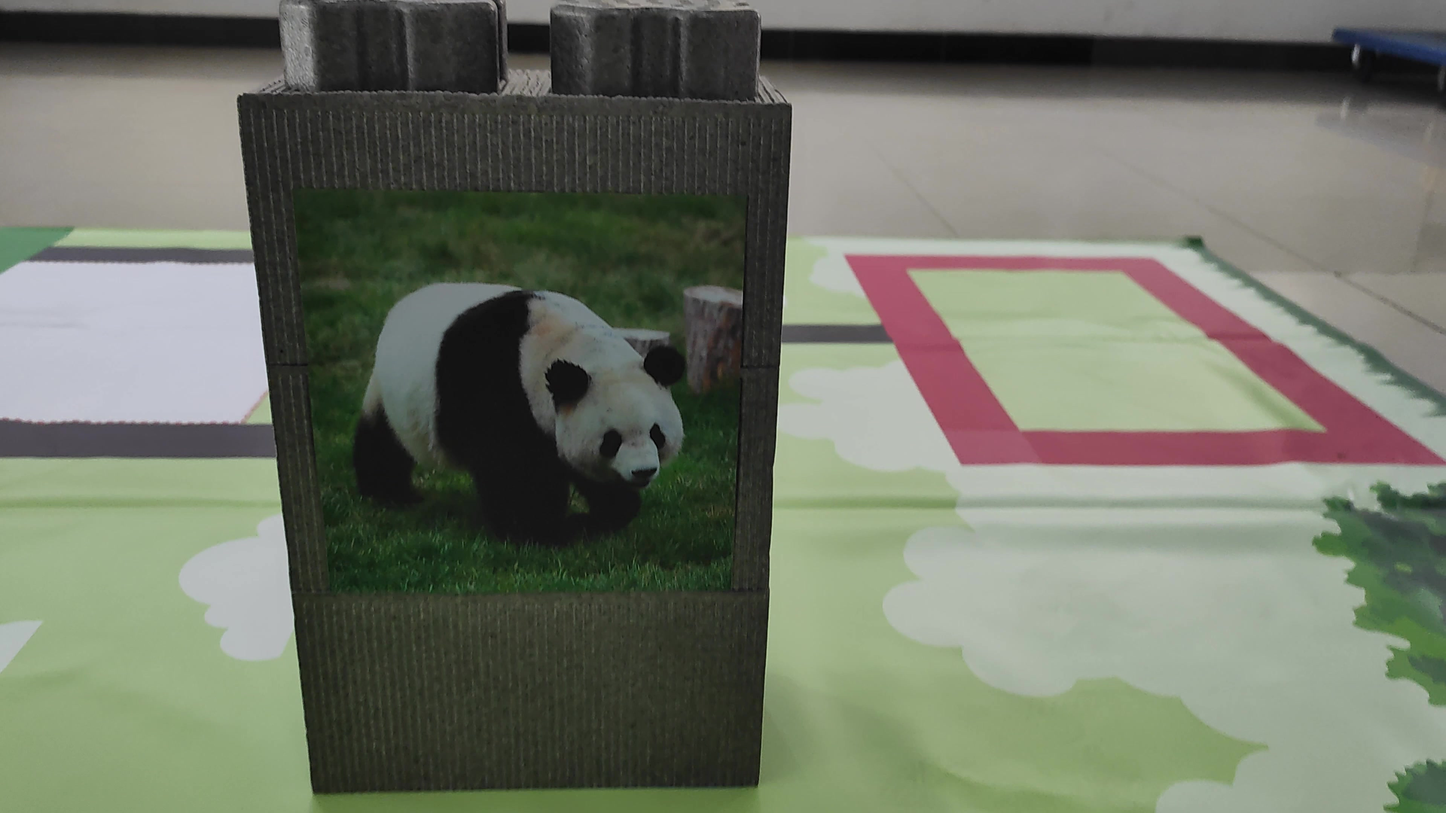panda: (321, 269, 718, 544)
